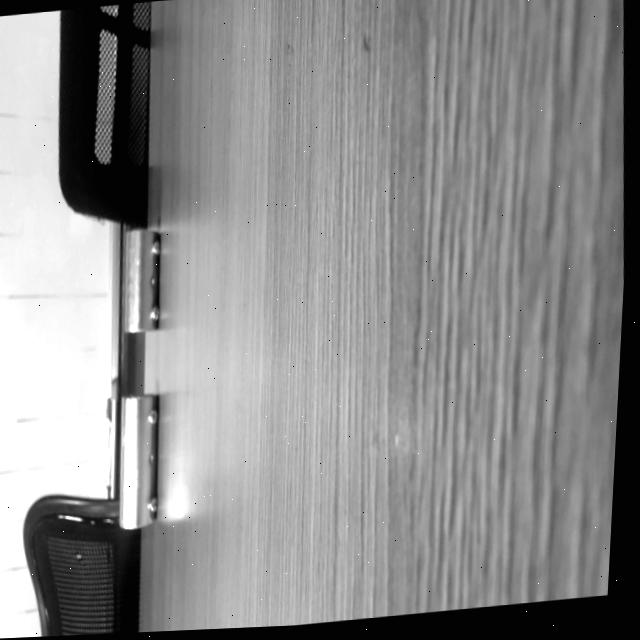Co_Lon: (120, 394, 158, 530)
Co_Nho: (123, 229, 160, 333)
